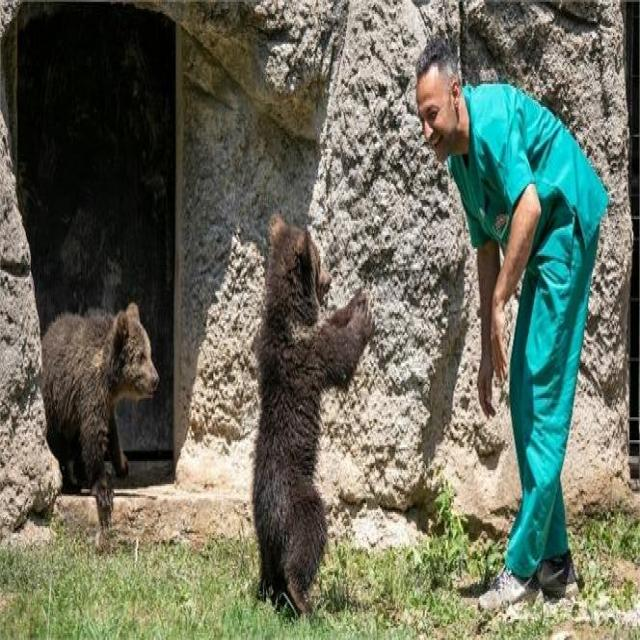Bear: (252, 214, 374, 621), (40, 303, 160, 531)
